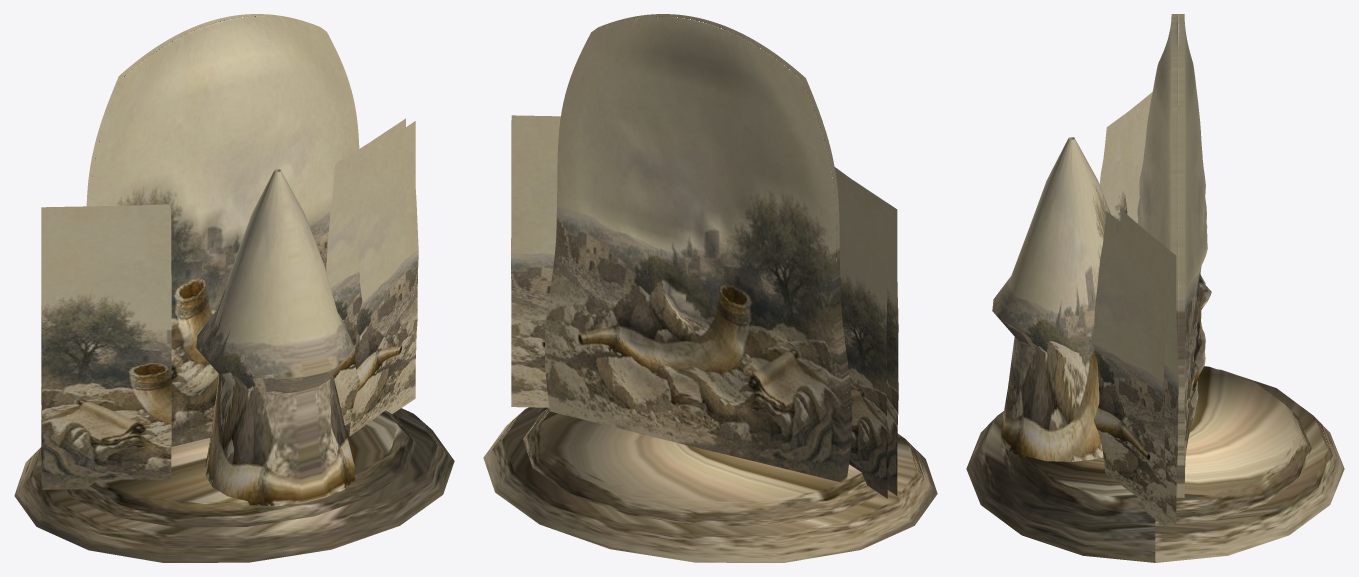
Rendered from joshua-judges-10.glb.
3 renders of one model, left to right at view 1: azimuth 30°, elevation 25°; view 2: azimuth 150°, elevation 25°; view 3: azimuth 270°, elevation 25°, orthographic. The views are drawn at different scales.
Visible parts, largest first — view 1: PaintingSculptureMonument; view 2: PaintingSculptureMonument; view 3: PaintingSculptureMonument.
Part boxes in pixels (left/top/right/bottom): PaintingSculptureMonument: left=14, top=14, right=454, bottom=562; PaintingSculptureMonument: left=483, top=14, right=937, bottom=562; PaintingSculptureMonument: left=966, top=14, right=1344, bottom=562.
Bounding box in the file's own units: 2.76 × 2.99 × 2.35.
1 material, 1 textured.
